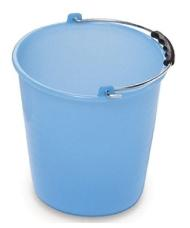SEAU: (13, 5, 184, 228)
